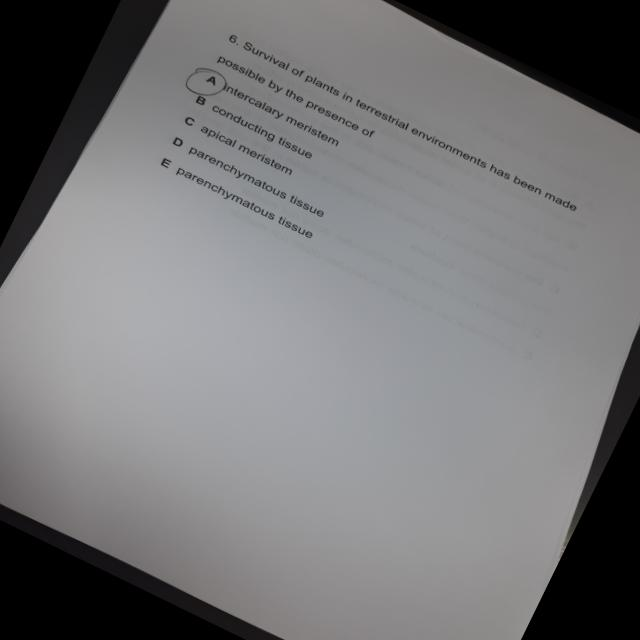A: (181, 58, 235, 107)
